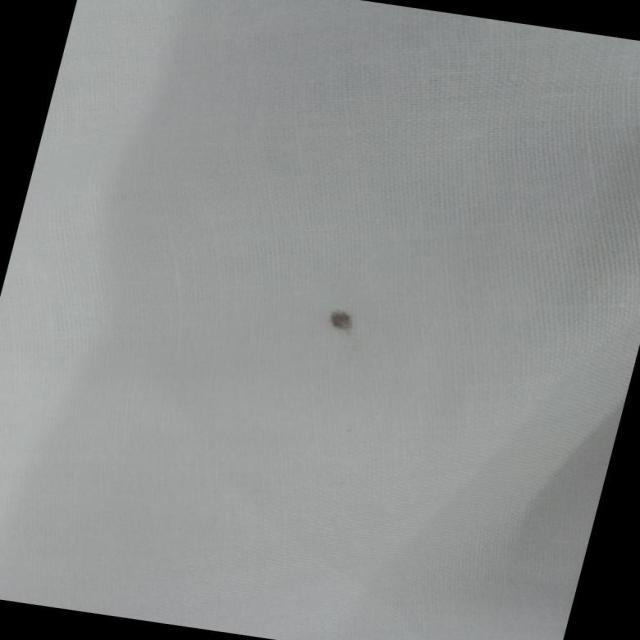stain: (312, 298, 372, 341)
